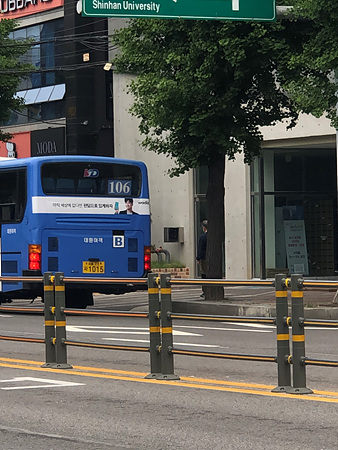bnum: (107, 178, 132, 195)
